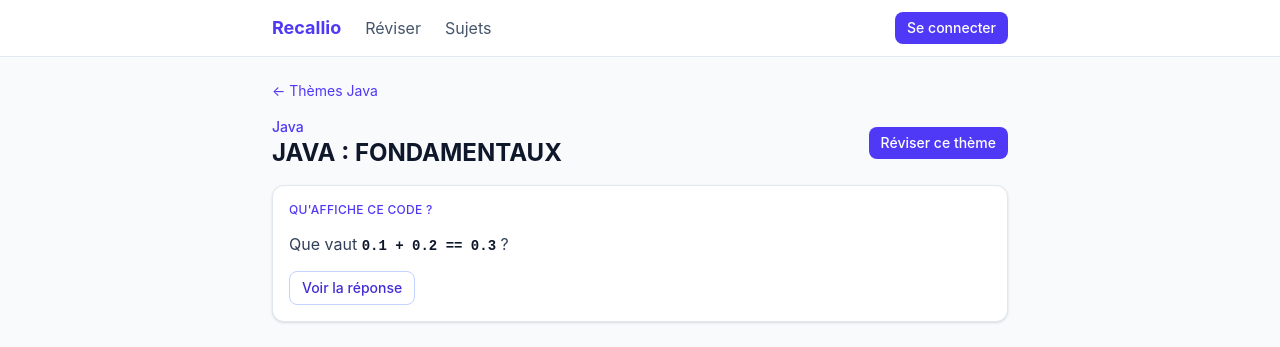
Test: ThemePage › reveals the answer, rendered as Markdown, on demand
Click the button "Voir la réponse": {"x": 352, "y": 288} [289,270,415,304]
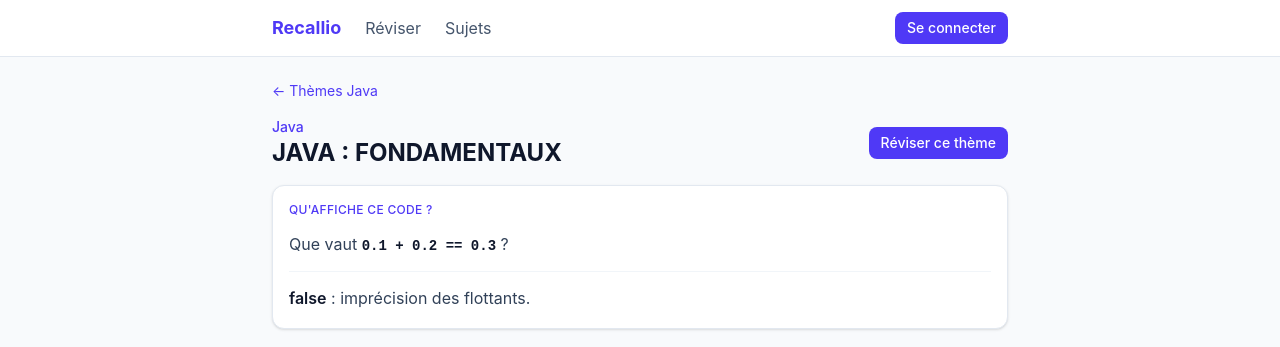
Expected: the text "false : imprécision des flottants." is shown, [289,288,530,308]
